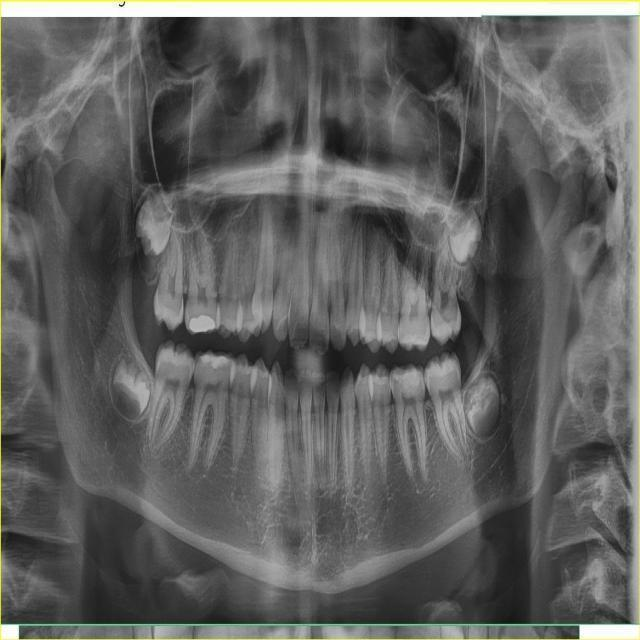Filling: (201, 351, 235, 382), (189, 314, 215, 333), (400, 329, 429, 346), (431, 357, 455, 377), (400, 368, 421, 389)
